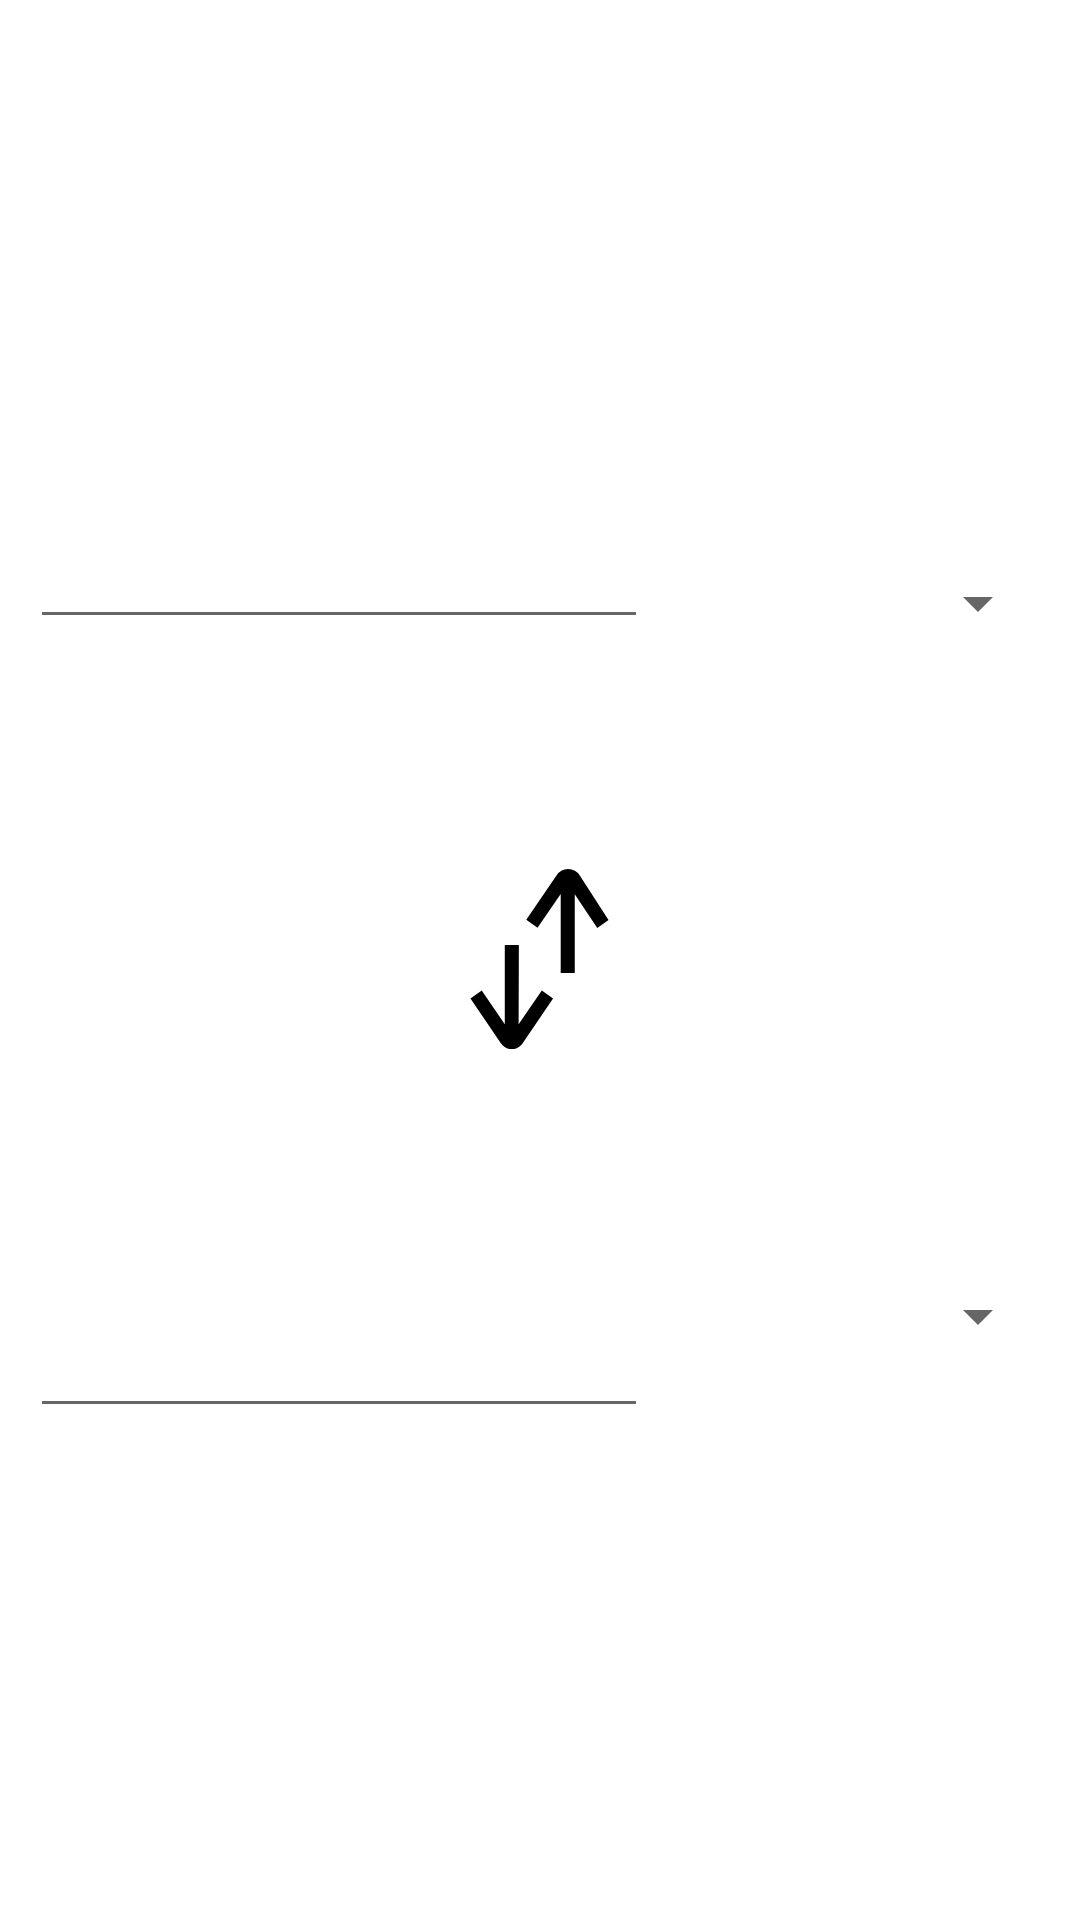

Icons on this 1080 × 1920 Android screen, each with the point to tap as (x=x, y=y):
flechas: (x=539, y=959)
